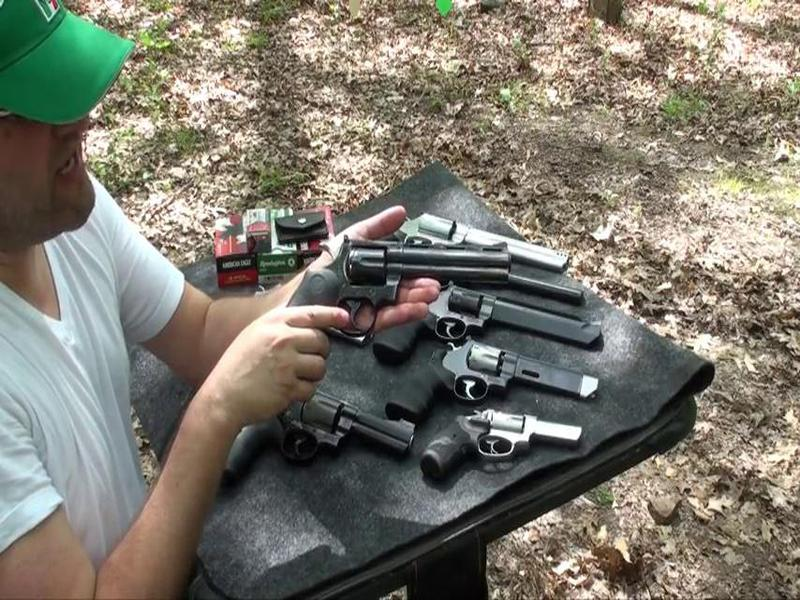Revolver: (283, 229, 519, 349), (421, 403, 586, 480)
